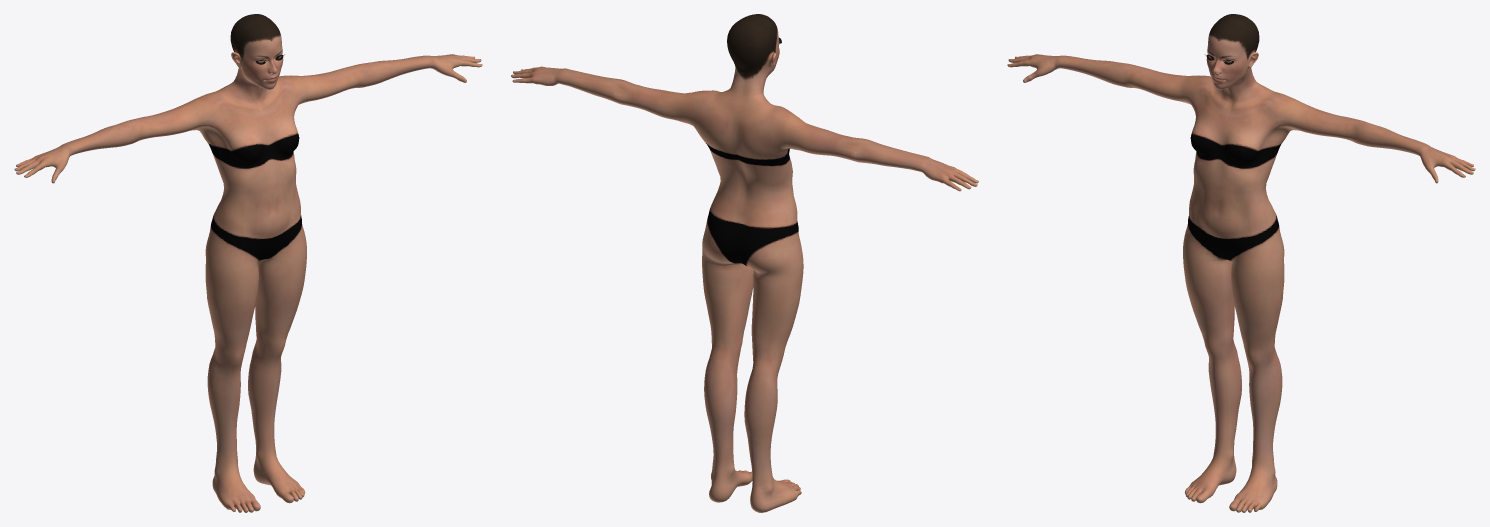
The model's file is FemaleModel.obj.
3 views of the same model, side by side, from view 1: azimuth 30°, elevation 25°; view 2: azimuth 150°, elevation 25°; view 3: azimuth 330°, elevation 25° (orthographic).
Visible parts, largest first — view 1: Body; view 2: Body; view 3: Body.
Part boxes in pixels (bbox=[...]): Body: bbox=[14, 14, 482, 512]; Body: bbox=[511, 14, 978, 512]; Body: bbox=[1007, 14, 1475, 512].
Bounding box in the file's own units: 179 × 177 × 26.57.
Materials: 1 (1 with a texture image).
